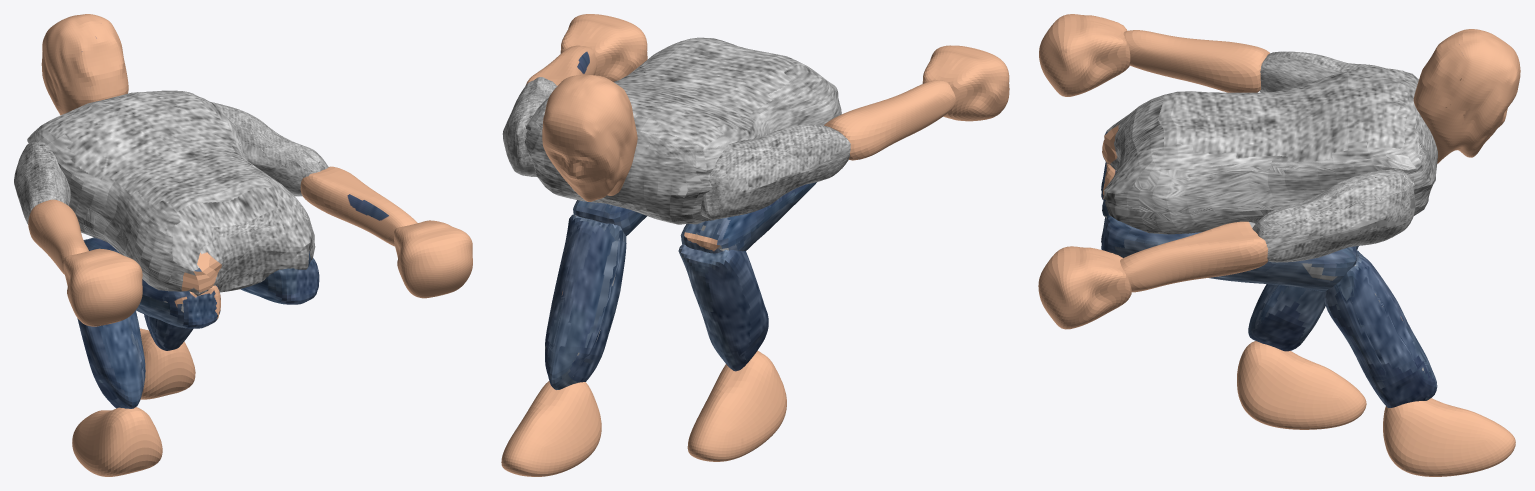
Rendered from mainCharacter.obj.
The picture shows the model from 3 angles, left to right: view 1: azimuth 30°, elevation 25°; view 2: azimuth 150°, elevation 25°; view 3: azimuth 270°, elevation 25°; orthographic projection. The views are drawn at different scales.
Visible parts, largest first — view 1: Cube.007, Cube.016, Cube.005_Cube.020, Cube.011_Cube.024, Cube.009_Cube.023, Cube.002_Cube.018, Cube.015, Cube.010, Cube.001, Cube.006_Cube.021, Cube.008_Cube.022, Cube.003_Cube.019 (+2 smaller); view 2: Cube.007, Cube.004, Cube.016, Cube.006_Cube.021, Cube.005_Cube.020, Cube.002_Cube.018, Cube.003_Cube.019, Cube.008_Cube.022, Cube.011_Cube.024, Cube.009_Cube.023, Cube.001, Cube.010 (+2 smaller); view 3: Cube.007, Cube.016, Cube.010, Cube.004, Cube.005_Cube.020, Cube.003_Cube.019, Cube.015, Cube.008_Cube.022, Cube.011_Cube.024, Cube.009_Cube.023, Cube.001_Cube.017, Cube.002_Cube.018 (+1 smaller).
Boxes of the visible parts, x1=… form: Cube.007: x1=27, y1=90, x2=315, y2=295; Cube.016: x1=41, y1=14, x2=128, y2=115; Cube.005_Cube.020: x1=72, y1=407, x2=162, y2=476; Cube.011_Cube.024: x1=63, y1=248, x2=142, y2=326; Cube.009_Cube.023: x1=394, y1=220, x2=472, y2=298; Cube.002_Cube.018: x1=77, y1=310, x2=145, y2=408; Cube.015: x1=300, y1=166, x2=417, y2=246; Cube.010: x1=211, y1=102, x2=328, y2=196; Cube.001: x1=83, y1=237, x2=220, y2=328; Cube.006_Cube.021: x1=14, y1=141, x2=70, y2=224; Cube.008_Cube.022: x1=28, y1=199, x2=88, y2=274; Cube.003_Cube.019: x1=139, y1=328, x2=195, y2=399; Cube.007: x1=524, y1=37, x2=841, y2=224; Cube.004: x1=545, y1=214, x2=626, y2=389; Cube.016: x1=542, y1=75, x2=637, y2=201; Cube.006_Cube.021: x1=701, y1=124, x2=850, y2=219; Cube.005_Cube.020: x1=687, y1=351, x2=786, y2=461; Cube.002_Cube.018: x1=678, y1=244, x2=768, y2=371; Cube.003_Cube.019: x1=501, y1=381, x2=601, y2=476; Cube.008_Cube.022: x1=824, y1=80, x2=955, y2=160; Cube.011_Cube.024: x1=922, y1=45, x2=1009, y2=121; Cube.009_Cube.023: x1=560, y1=14, x2=647, y2=81; Cube.001: x1=680, y1=182, x2=816, y2=253; Cube.010: x1=502, y1=77, x2=556, y2=176; Cube.007: x1=1102, y1=67, x2=1437, y2=234; Cube.016: x1=1413, y1=29, x2=1520, y2=163; Cube.010: x1=1252, y1=169, x2=1415, y2=262; Cube.004: x1=1324, y1=250, x2=1437, y2=407; Cube.005_Cube.020: x1=1237, y1=341, x2=1366, y2=429; Cube.003_Cube.019: x1=1383, y1=398, x2=1515, y2=476; Cube.015: x1=1120, y1=221, x2=1267, y2=292; Cube.008_Cube.022: x1=1123, y1=30, x2=1269, y2=92; Cube.011_Cube.024: x1=1039, y1=14, x2=1130, y2=96; Cube.009_Cube.023: x1=1038, y1=246, x2=1131, y2=329; Cube.001_Cube.017: x1=1101, y1=215, x2=1356, y2=291; Cube.002_Cube.018: x1=1248, y1=246, x2=1358, y2=351.
Size of the model in its own units: 1.16 by 1.05 by 1.11.
3 materials, 3 textured.
